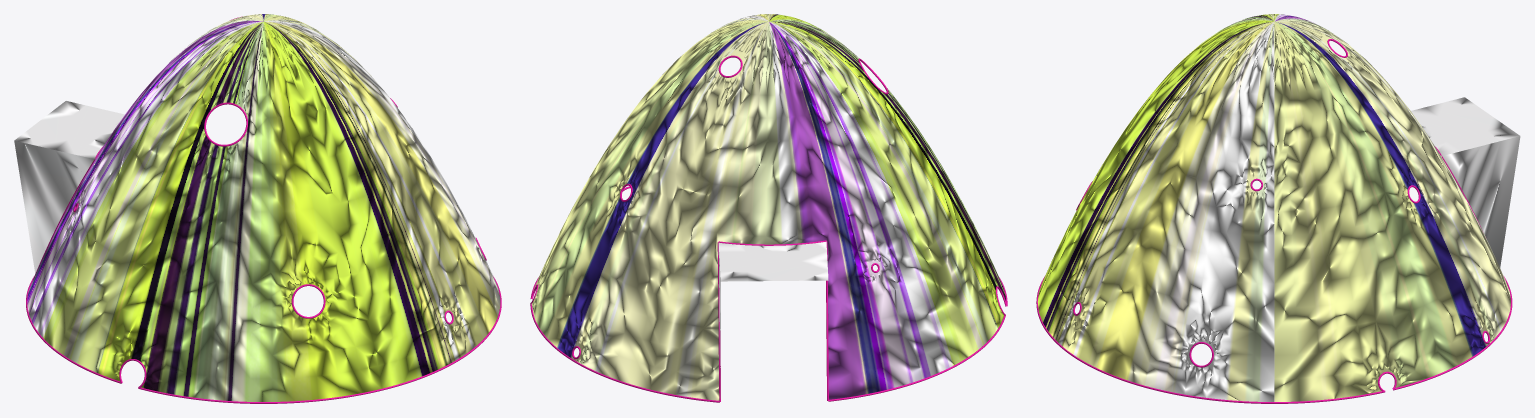
3 renders of one model, left to right at view 1: azimuth 30°, elevation 25°; view 2: azimuth 150°, elevation 25°; view 3: azimuth 270°, elevation 25°, orthographic.
Parts seen in each view (by area): view 1: Solids, Solids_2, Canopy, Openings, Canopy_2; view 2: Solids, Solids_2, Canopy, Openings, Canopy_2; view 3: Solids, Solids_2, Canopy, Openings, Canopy_2.
Boxes of the visible parts, x1=… form: Solids: x1=27, y1=14, x2=500, y2=401; Solids_2: x1=27, y1=15, x2=500, y2=401; Canopy: x1=14, y1=101, x2=124, y2=273; Openings: x1=26, y1=16, x2=501, y2=403; Canopy_2: x1=15, y1=101, x2=122, y2=268; Solids: x1=531, y1=14, x2=1005, y2=400; Solids_2: x1=532, y1=15, x2=1003, y2=400; Canopy: x1=718, y1=241, x2=828, y2=398; Openings: x1=530, y1=55, x2=1007, y2=402; Canopy_2: x1=719, y1=242, x2=827, y2=350; Solids: x1=1037, y1=14, x2=1510, y2=401; Solids_2: x1=1038, y1=15, x2=1510, y2=401; Canopy: x1=1411, y1=97, x2=1520, y2=267; Openings: x1=1036, y1=39, x2=1512, y2=403; Canopy_2: x1=1412, y1=98, x2=1519, y2=264.
Bounding box in the file's own units: 15.09 × 9.88 × 15.35.
Materials: 3 (3 with a texture image).
